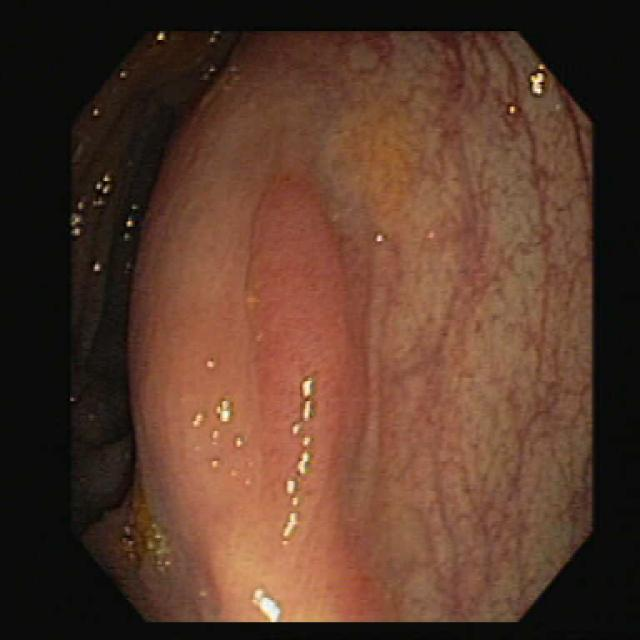tumor: (247, 182, 352, 547)
